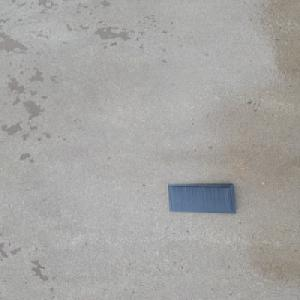PlasticPart: (166, 183, 237, 214)
